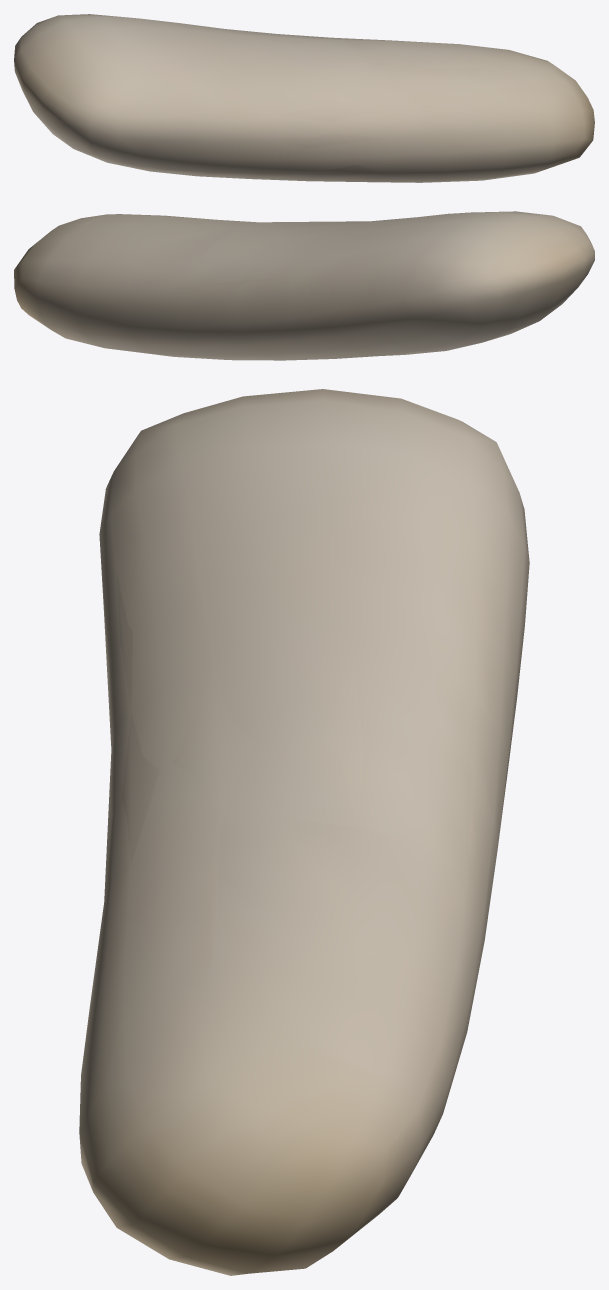
The picture shows the model from 3 angles, top to bottom: view 1: azimuth 30°, elevation 25°; view 2: azimuth 150°, elevation 25°; view 3: azimuth 270°, elevation 25°; orthographic projection. The views are drawn at different scales.
Parts seen in each view (by area): view 1: CC R6, CC R6 low; view 2: CC R6, CC R6 low; view 3: CC R6, CC R6 low.
Boxes of the visible parts, x1,y1,x2,y2 form: CC R6: (14, 14, 594, 182); CC R6 low: (181, 35, 481, 173); CC R6: (14, 211, 594, 360); CC R6 low: (156, 216, 365, 287); CC R6: (79, 389, 529, 1275); CC R6 low: (104, 524, 474, 971).
Bounding box in the file's own units: 2.19 × 0.8472 × 0.7878.
1 material, 1 textured.
